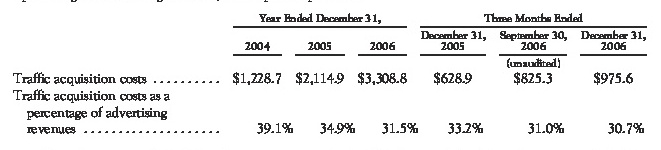table: (0, 0, 661, 150)
